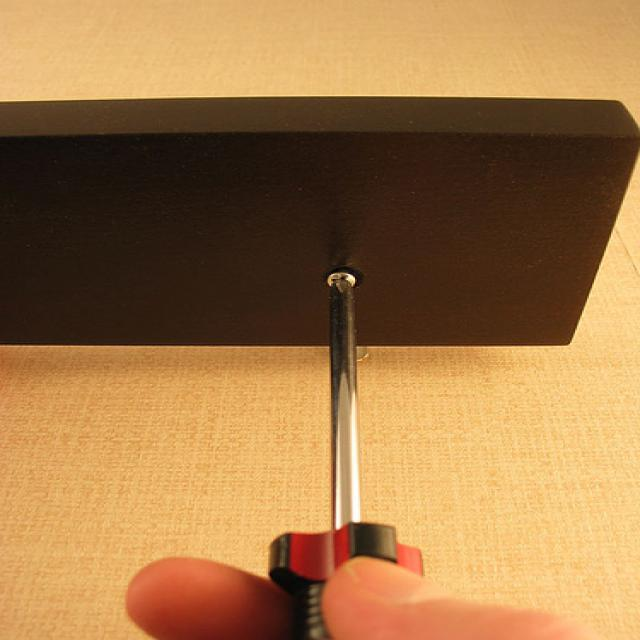screwdriver: (255, 271, 448, 640)
